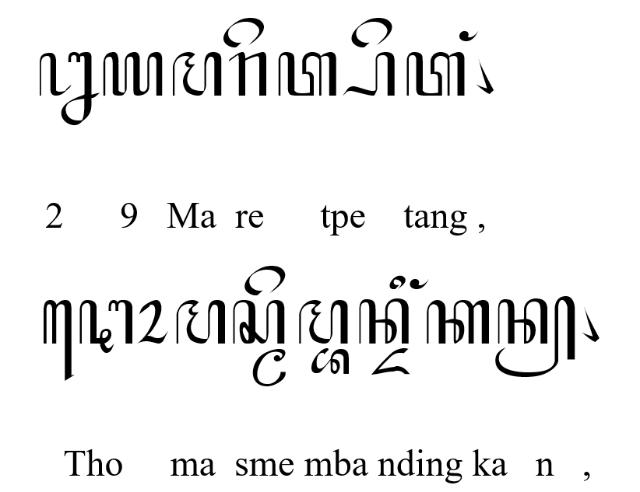-n: (496, 296, 576, 378)
_b: (310, 348, 350, 376)
_d: (372, 348, 411, 376)
_m: (252, 348, 286, 388)
_p: (344, 52, 396, 97)
e: (222, 17, 264, 49), (352, 17, 392, 49), (244, 266, 286, 296)
e1: (44, 300, 74, 382)
i: (388, 276, 406, 290)
k: (426, 299, 490, 344)
kom: (581, 306, 601, 342), (476, 58, 492, 94)
m: (176, 300, 227, 346), (297, 299, 349, 344), (172, 52, 222, 97)
n: (358, 298, 409, 346)
ng: (409, 278, 429, 291), (459, 30, 479, 42)
ngna: (39, 52, 100, 127)
o: (137, 300, 169, 346)
r: (229, 52, 267, 98)
s: (232, 299, 286, 344)
t: (276, 51, 338, 98), (405, 52, 465, 97)
th: (80, 298, 134, 354)
y: (103, 51, 163, 97)
